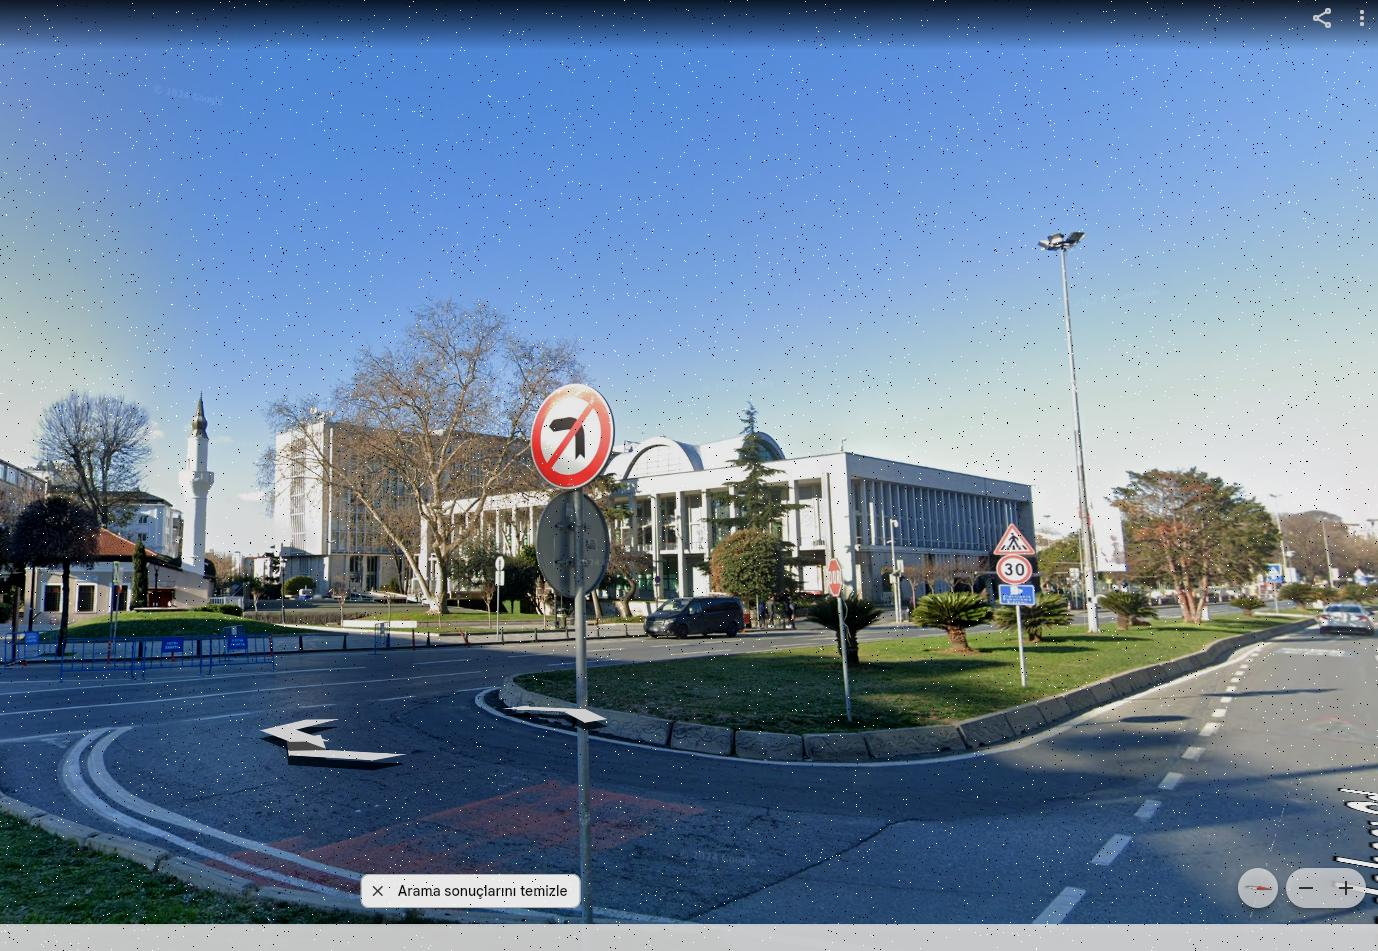leftturnsareforbidden: (534, 384, 615, 479)
